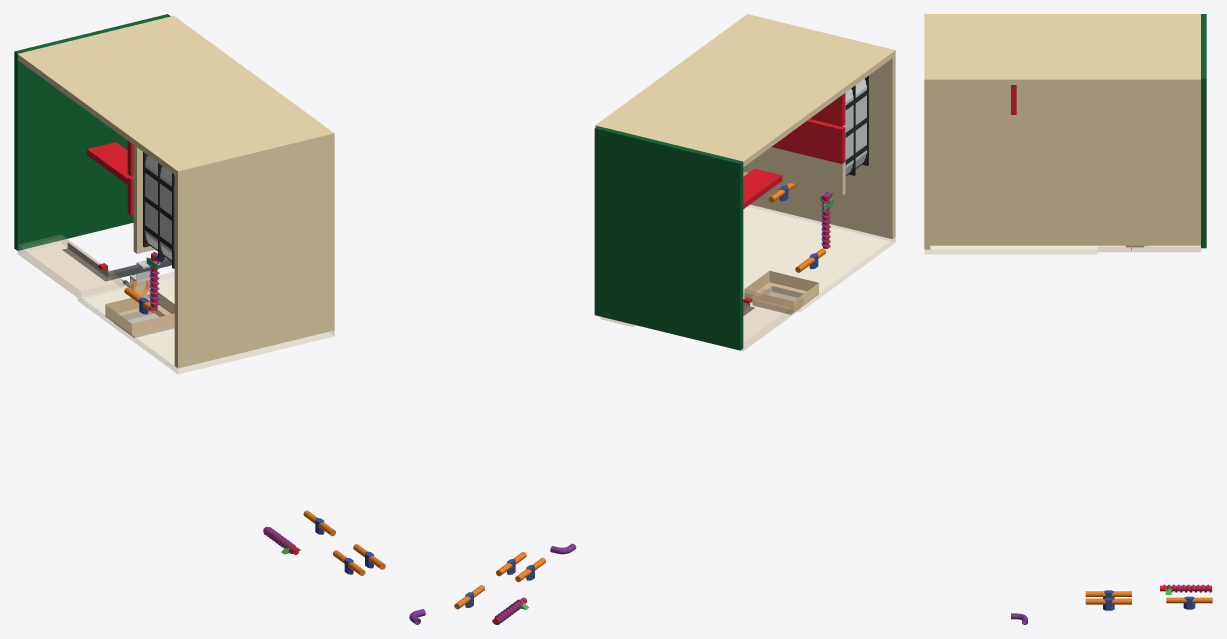
File: tinker.obj
3 views of the same model, side by side, from view 1: azimuth 30°, elevation 25°; view 2: azimuth 150°, elevation 25°; view 3: azimuth 270°, elevation 25° (orthographic). The views are drawn at different scales.
Parts seen in each view (by area): view 1: group_0_16311991, group_0_1206582, group_0_-1023875401, group_0_-1025326955, group_0_14541540, group_0_15277357, group_0_14860437, group_0_2829873, group_0_16089887, group_0_6383466, group_0_8273816; view 2: group_0_16311991, group_0_1206582, group_0_-1023875401, group_0_15277357, group_0_-1025326955, group_0_14860437, group_0_14541540, group_0_16089887, group_0_2829873, group_0_8273816; view 3: group_0_16311991, group_0_-1023875401, group_0_1206582, group_0_16089887, group_0_-1025326955, group_0_15277357.
Part boxes in pixels (x1,y1,x2,y2): group_0_16311991: (17, 16, 334, 368); group_0_1206582: (14, 14, 170, 250); group_0_-1023875401: (78, 272, 334, 374); group_0_-1025326955: (18, 235, 124, 297); group_0_14541540: (121, 155, 174, 282); group_0_15277357: (87, 141, 299, 554); group_0_14860437: (105, 278, 174, 335); group_0_2829873: (143, 152, 174, 268); group_0_16089887: (124, 280, 385, 575); group_0_6383466: (62, 242, 171, 287); group_0_8273816: (149, 252, 425, 624); group_0_16311991: (595, 14, 895, 239); group_0_1206582: (594, 126, 743, 350); group_0_-1023875401: (743, 205, 895, 311); group_0_15277357: (493, 93, 845, 624); group_0_-1025326955: (601, 289, 803, 350); group_0_14860437: (744, 270, 818, 312); group_0_14541540: (845, 79, 866, 174); group_0_16089887: (454, 183, 825, 609); group_0_2829873: (845, 75, 868, 176); group_0_8273816: (492, 192, 832, 624); group_0_16311991: (924, 14, 1200, 249); group_0_-1023875401: (924, 246, 1096, 254); group_0_1206582: (1201, 14, 1206, 248); group_0_16089887: (1085, 245, 1212, 604); group_0_-1025326955: (1097, 246, 1200, 251); group_0_15277357: (1011, 85, 1211, 591).
Size of the model in its own units: 52.5 by 92.5 by 50.
